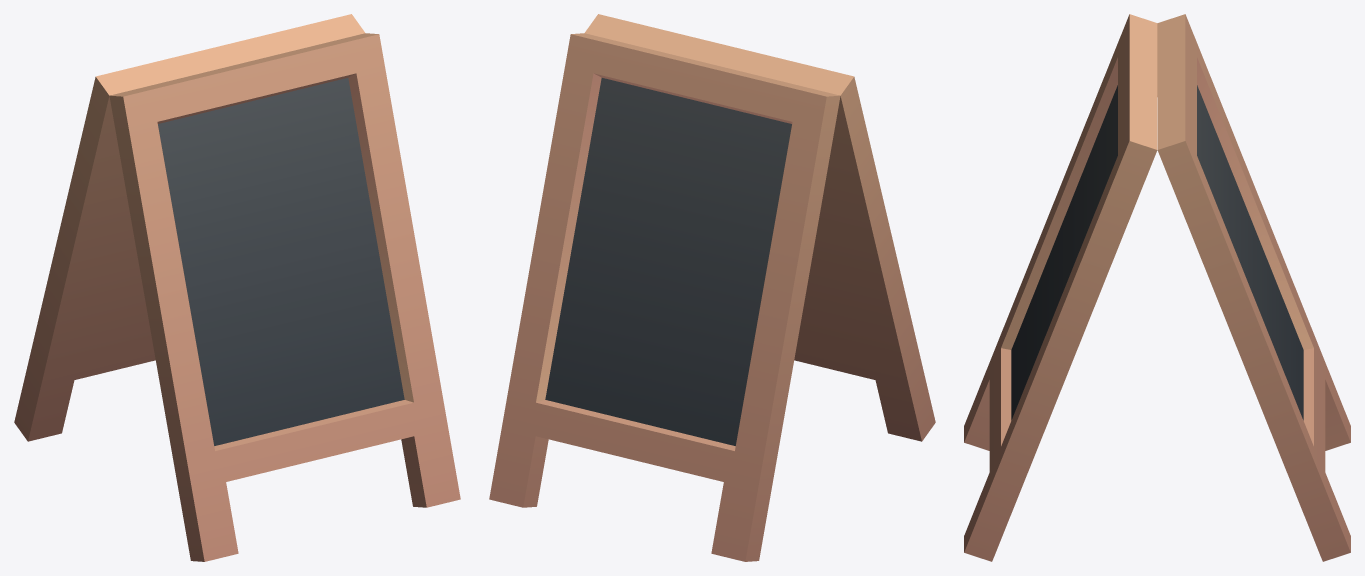
File: Sign_Folding_01.fbx
The picture shows the model from 3 angles, left to right: view 1: azimuth 30°, elevation 25°; view 2: azimuth 150°, elevation 25°; view 3: azimuth 270°, elevation 25°; orthographic projection.
Visible parts, largest first — view 1: Sign_Folding_01_Front, Sign_Folding_01_Back; view 2: Sign_Folding_01_Back, Sign_Folding_01_Front; view 3: Sign_Folding_01_Front, Sign_Folding_01_Back.
Boxes of the visible parts, x1=… form: Sign_Folding_01_Front: x1=109, y1=33, x2=460, y2=561; Sign_Folding_01_Back: x1=14, y1=14, x2=365, y2=441; Sign_Folding_01_Back: x1=489, y1=33, x2=840, y2=561; Sign_Folding_01_Front: x1=584, y1=14, x2=935, y2=441; Sign_Folding_01_Front: x1=964, y1=14, x2=1157, y2=561; Sign_Folding_01_Back: x1=1157, y1=14, x2=1350, y2=561.
Bounding box in the file's own units: 80.71 × 125 × 104.
